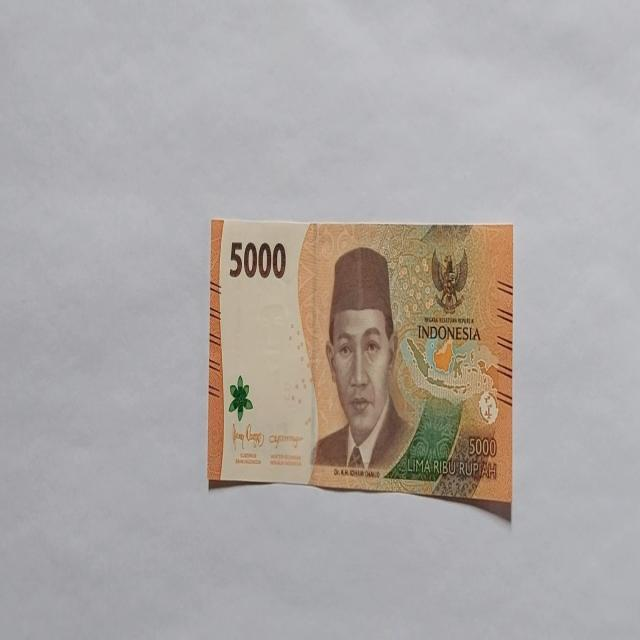lima ribu rupiah: (207, 215, 514, 518), (308, 246, 416, 477)
